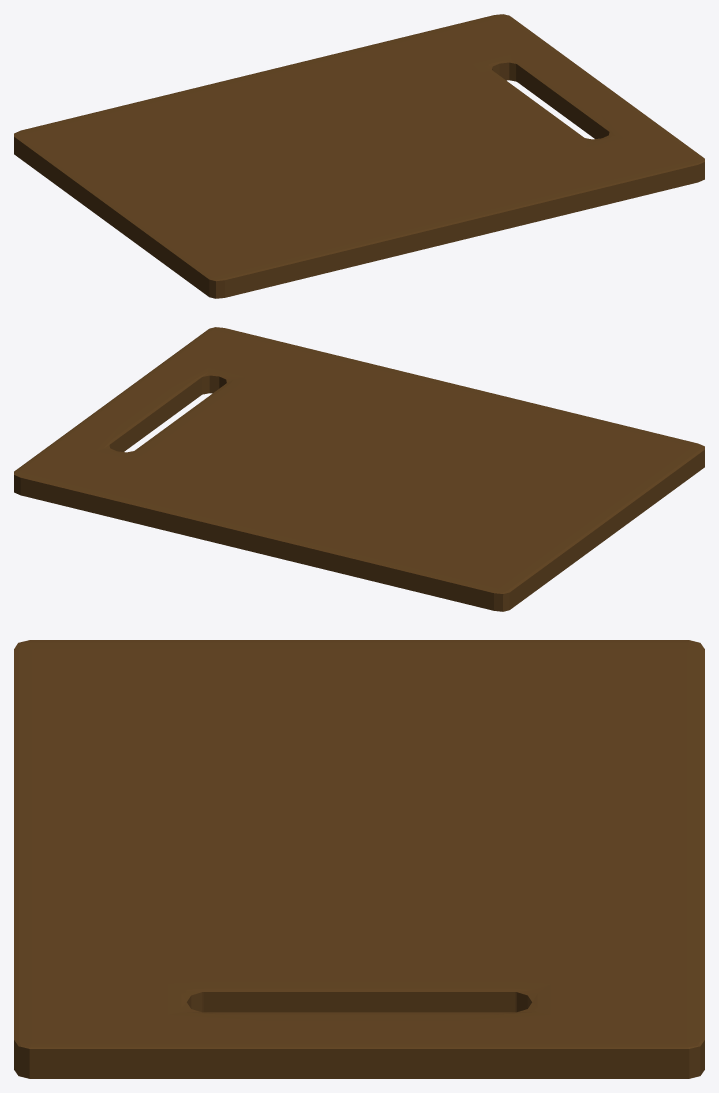
Rendered from cuttingboard.fbx.
3 renders of one model, top to bottom at view 1: azimuth 30°, elevation 25°; view 2: azimuth 150°, elevation 25°; view 3: azimuth 270°, elevation 25°, orthographic. The views are drawn at different scales.
Parts seen in each view (by area): view 1: Cube; view 2: Cube; view 3: Cube.
Boxes of the visible parts, left/top/right/bottom form: Cube: left=14, top=14, right=704, bottom=298; Cube: left=14, top=327, right=704, bottom=611; Cube: left=14, top=640, right=704, bottom=1078.
Size of the model in its own units: 70 by 2.5 by 50.
